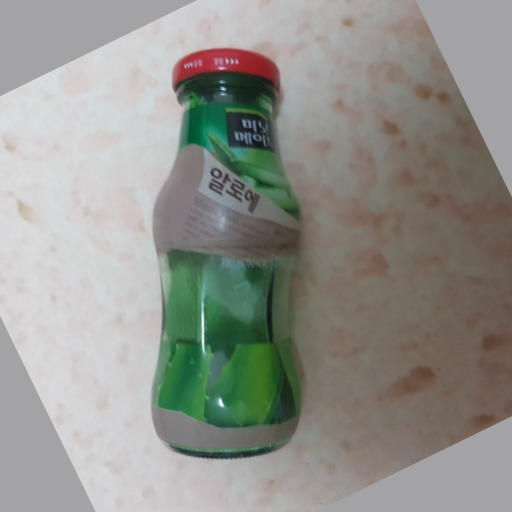Glass_4: (147, 46, 307, 457)
